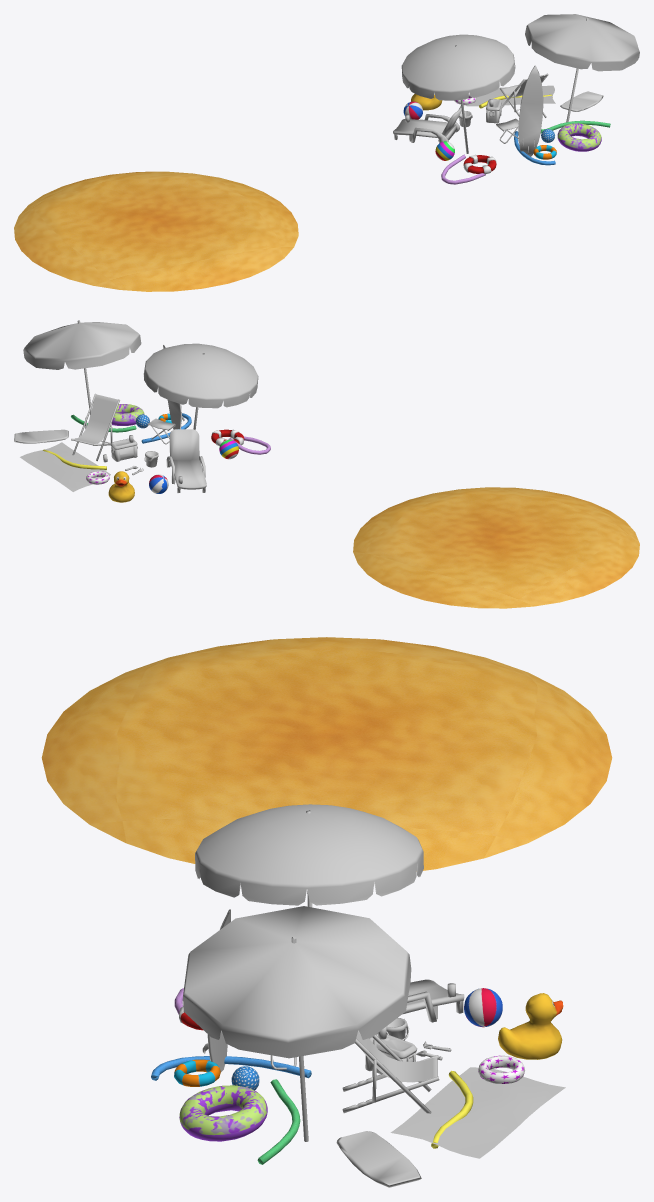
The model's file is beach.fbx.
The picture shows the model from 3 angles, top to bottom: view 1: azimuth 30°, elevation 25°; view 2: azimuth 150°, elevation 25°; view 3: azimuth 270°, elevation 25°; orthographic projection. The views are drawn at different scales.
Parts seen in each view (by area): view 1: model_2, model_0.005, model_0.004, model_0.007, model_0.006, model_1.007, model_1, model_0.001, model_0.002, model_0.003; view 2: model_2, model_0.005, model_0.004, model_0.006, model_0.001, model_0.003, model_1, model_0.002, model_1.001, model_0, model_1.007; view 3: model_2, model_0.004, model_0.005, model_0.001, model_1.007, model_0.003, model_1.001, model_0.002, model_0.006, model_1.003, model_1.011, model_1.002 (+3 smaller).
Boxes of the visible parts, x1=… form: model_2: x1=14, y1=171, x2=298, y2=291; model_0.005: x1=401, y1=34, x2=515, y2=153; model_0.004: x1=525, y1=14, x2=639, y2=122; model_0.007: x1=518, y1=65, x2=543, y2=156; model_0.006: x1=393, y1=105, x2=464, y2=142; model_1.007: x1=557, y1=123, x2=601, y2=151; model_1: x1=441, y1=154, x2=496, y2=184; model_0.001: x1=464, y1=85, x2=555, y2=106; model_0.002: x1=560, y1=91, x2=603, y2=111; model_0.003: x1=499, y1=73, x2=548, y2=117; model_2: x1=353, y1=487, x2=639, y2=608; model_0.005: x1=143, y1=343, x2=258, y2=429; model_0.004: x1=23, y1=320, x2=141, y2=415; model_0.006: x1=166, y1=429, x2=206, y2=492; model_0.001: x1=20, y1=442, x2=110, y2=491; model_0.003: x1=71, y1=393, x2=119, y2=461; model_1: x1=211, y1=429, x2=270, y2=454; model_0.002: x1=14, y1=429, x2=68, y2=443; model_1.001: x1=108, y1=471, x2=134, y2=502; model_0: x1=110, y1=435, x2=137, y2=461; model_1.007: x1=112, y1=404, x2=144, y2=425; model_2: x1=41, y1=637, x2=612, y2=870; model_0.004: x1=183, y1=906, x2=411, y2=1141; model_0.005: x1=195, y1=804, x2=423, y2=907; model_0.001: x1=390, y1=1067, x2=565, y2=1158; model_1.007: x1=179, y1=1085, x2=267, y2=1141; model_0.003: x1=342, y1=1031, x2=439, y2=1113; model_1.001: x1=498, y1=993, x2=563, y2=1059; model_0.002: x1=336, y1=1131, x2=421, y2=1187; model_0.006: x1=402, y1=979, x2=464, y2=1022; model_1.003: x1=464, y1=988, x2=502, y2=1027; model_1.011: x1=151, y1=1056, x2=311, y2=1080; model_1.002: x1=478, y1=1055, x2=524, y2=1083.
Bounding box in the file's own units: 29715 × 5629 × 12387.
